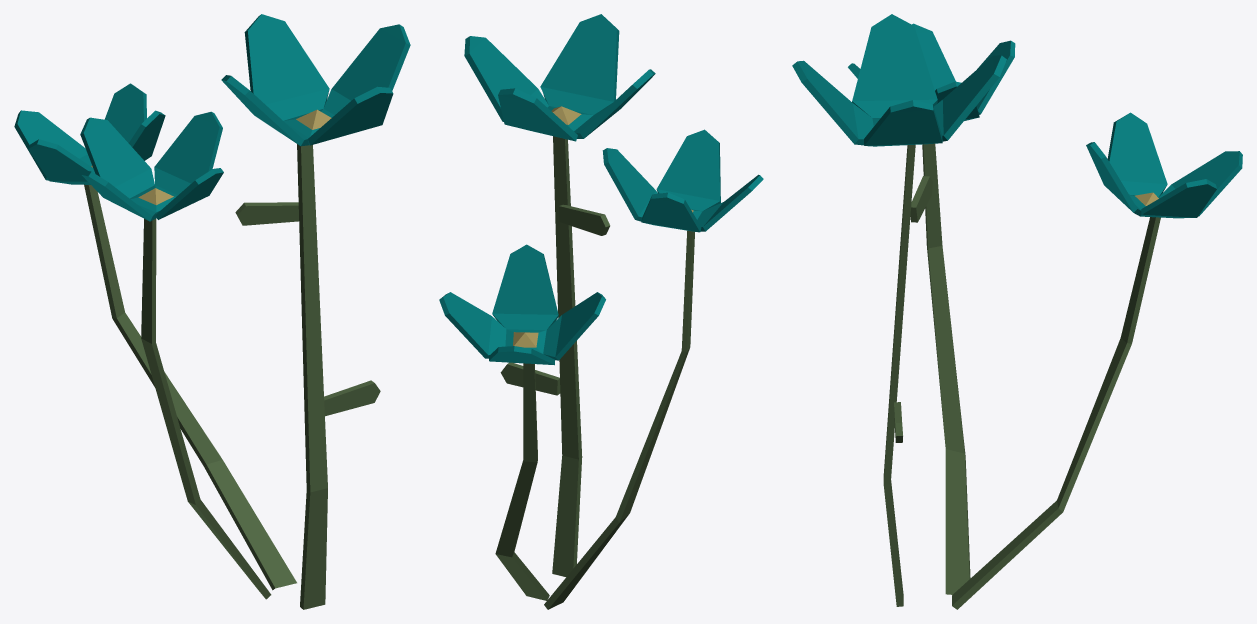
File: Flowers.gltf
3 views of the same model, side by side, from view 1: azimuth 30°, elevation 25°; view 2: azimuth 150°, elevation 25°; view 3: azimuth 270°, elevation 25° (orthographic). The views are drawn at different scales.
Parts seen in each view (by area): view 1: Flowers; view 2: Flowers; view 3: Flowers.
Boxes of the visible parts, <box> form: Flowers: <box>14,14,410,609</box>; Flowers: <box>439,14,763,609</box>; Flowers: <box>792,14,1242,609</box>.
Size of the model in its own units: 0.4895 by 0.8289 by 0.6137.
